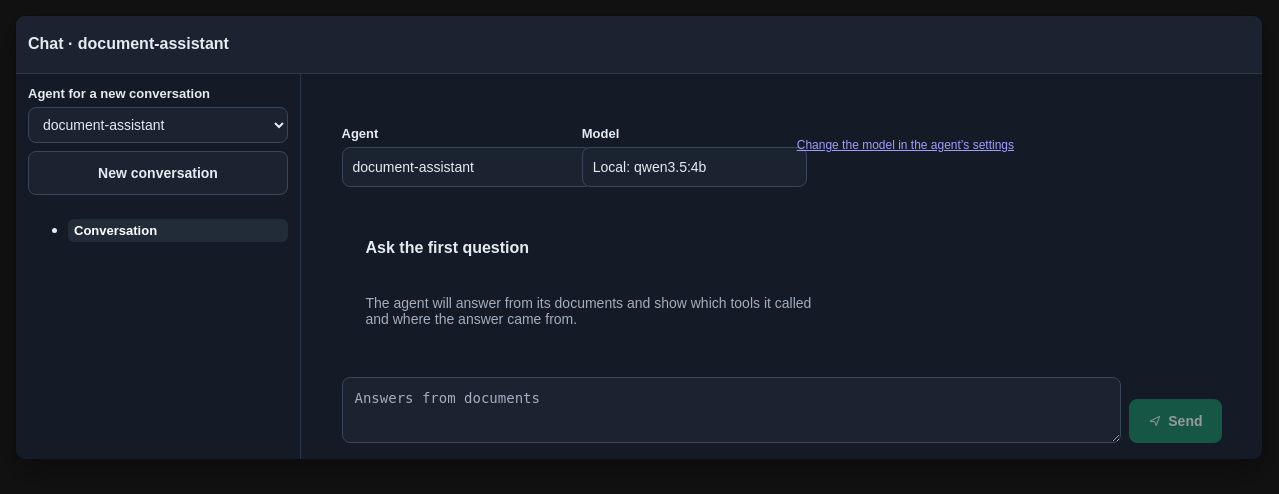
Test: Chat › shows a policy denial with the reason
Expected: the field labelled "Model" is shown, [582,146,807,186]
Step 1. Type "search the web" into the text box with placeholder "Answers from documents" → (731, 410), box [342,376,1121,442]
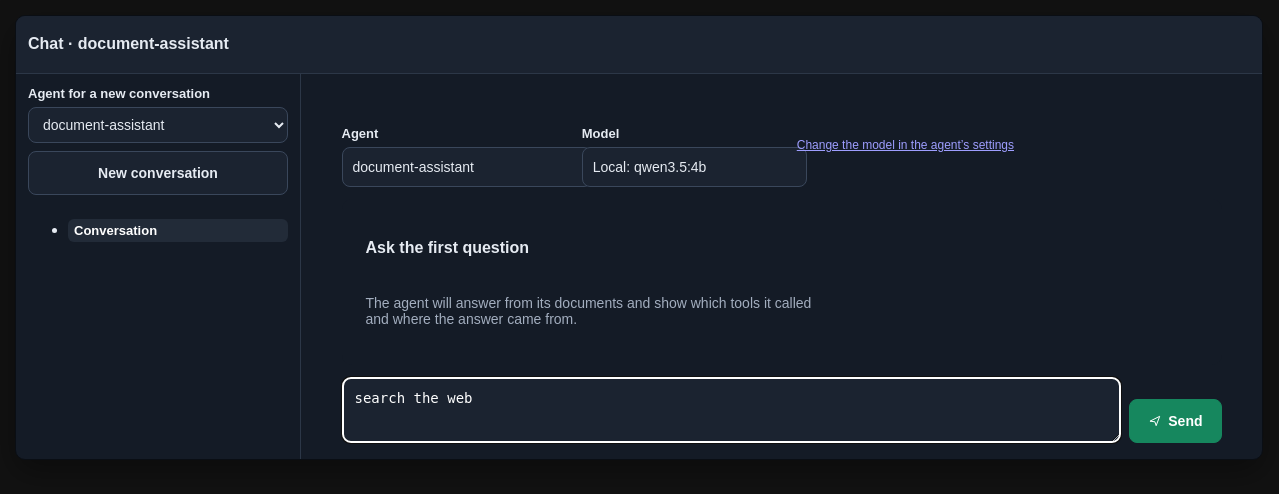
Step 2. Click the button "Send" → (1175, 420), box [1129,398,1222,442]
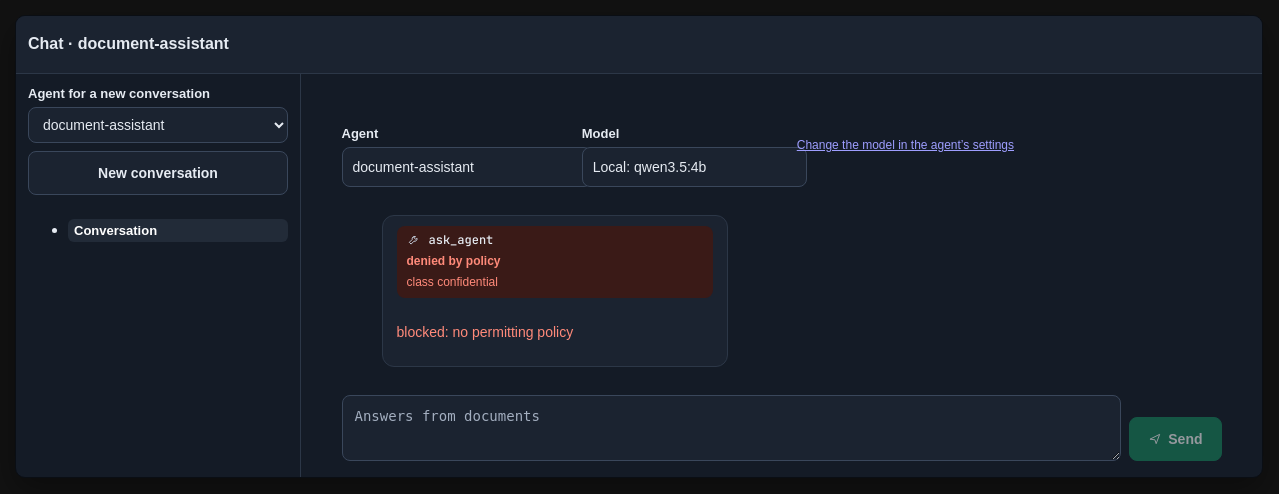
Expected: the text "denied by policy" is shown, [406,253,500,270]
Expected: the text "class confidential" is shown, [406,275,498,289]
Expected: the message shows "no permitting policy", [396,324,573,340]
